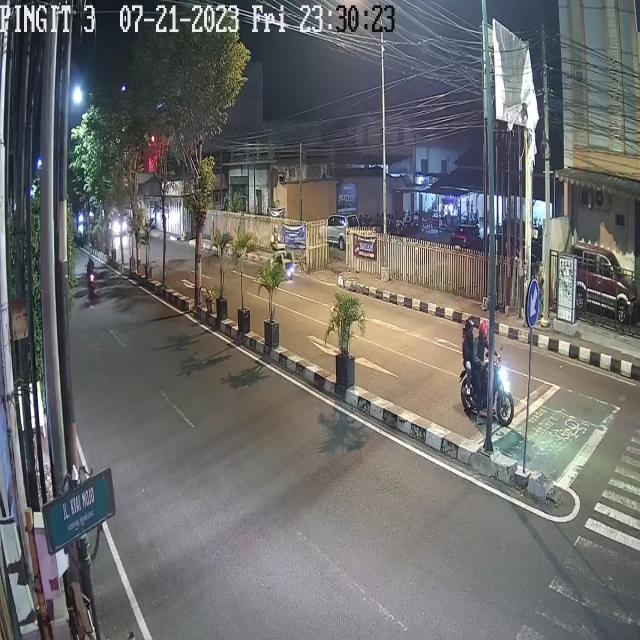car: (111, 212, 129, 239)
motorcycle: (461, 317, 512, 421), (85, 252, 97, 294)
